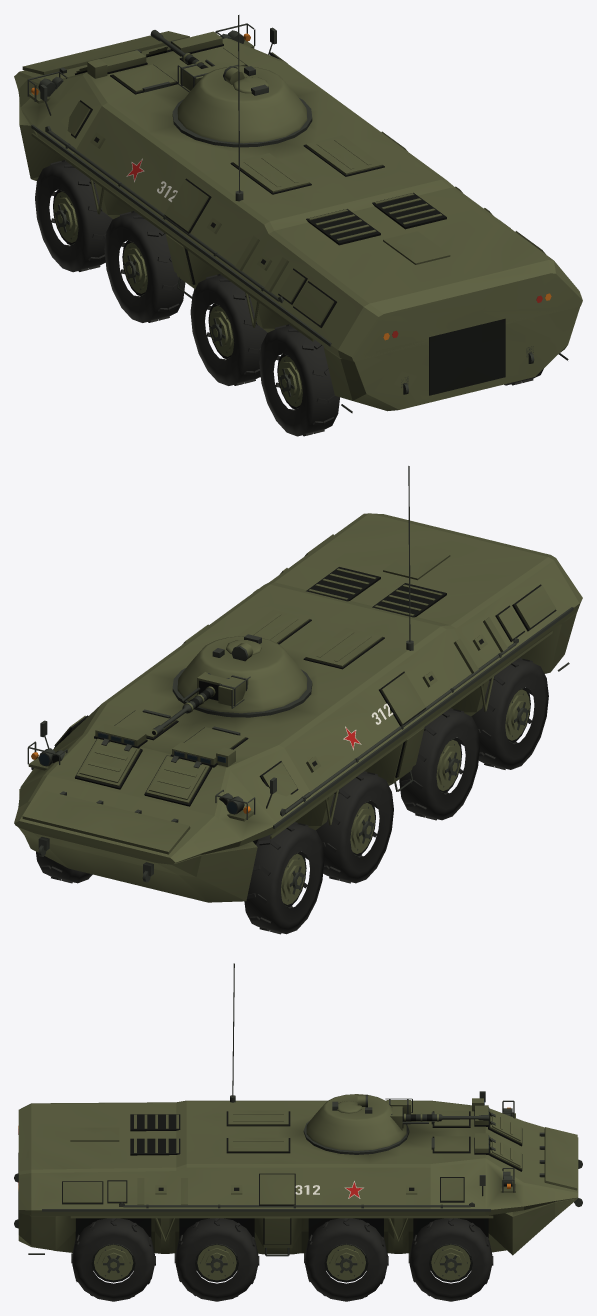
Rendered from btr70.glb.
The picture shows the model from 3 angles, top to bottom: view 1: azimuth 30°, elevation 25°; view 2: azimuth 150°, elevation 25°; view 3: azimuth 270°, elevation 25°; orthographic projection. The views are drawn at different scales.
Visible parts, largest first — view 1: Hull_BTR70_Paint, LeftTrack_Motion_BTR70_Rubber, Hull_BTR70_Cavity, TurretYaw_BTR70_Paint, Hull_BTR70_DarkSteel, LeftTrack_Motion_BTR70_Paint, LeftTrack_Motion_BTR70_DarkSteel; view 2: Hull_BTR70_Paint, LeftTrack_Motion_BTR70_Rubber, Hull_BTR70_DarkSteel, TurretYaw_BTR70_Paint, Hull_BTR70_Cavity, LeftTrack_Motion_BTR70_Paint, LeftTrack_Motion_BTR70_DarkSteel, RightTrack_Motion_BTR70_Rubber, GunPitch_BTR70_Paint; view 3: Hull_BTR70_Paint, RightTrack_Motion_BTR70_Rubber, Hull_BTR70_Cavity, Hull_BTR70_DarkSteel, TurretYaw_BTR70_Paint, RightTrack_Motion_BTR70_Paint, RightTrack_Motion_BTR70_Cavity, RightTrack_Motion_BTR70_DarkSteel.
Part boxes in pixels (x1=…): Hull_BTR70_Paint: x1=14, y1=31, x2=582, y2=411; LeftTrack_Motion_BTR70_Rubber: x1=35, y1=160, x2=339, y2=436; Hull_BTR70_Cavity: x1=71, y1=43, x2=505, y2=395; TurretYaw_BTR70_Paint: x1=177, y1=63, x2=307, y2=143; Hull_BTR70_DarkSteel: x1=27, y1=15, x2=568, y2=413; LeftTrack_Motion_BTR70_Paint: x1=53, y1=191, x2=302, y2=407; LeftTrack_Motion_BTR70_DarkSteel: x1=55, y1=190, x2=301, y2=408; Hull_BTR70_Paint: x1=14, y1=513, x2=582, y2=902; LeftTrack_Motion_BTR70_Rubber: x1=244, y1=658, x2=548, y2=934; Hull_BTR70_DarkSteel: x1=27, y1=466, x2=573, y2=882; TurretYaw_BTR70_Paint: x1=177, y1=636, x2=307, y2=713; Hull_BTR70_Cavity: x1=52, y1=567, x2=556, y2=844; LeftTrack_Motion_BTR70_Paint: x1=281, y1=689, x2=529, y2=904; LeftTrack_Motion_BTR70_DarkSteel: x1=282, y1=688, x2=528, y2=906; RightTrack_Motion_BTR70_Rubber: x1=36, y1=851, x2=92, y2=883; GunPitch_BTR70_Paint: x1=218, y1=676, x2=248, y2=706; Hull_BTR70_Paint: x1=18, y1=1098, x2=578, y2=1255; RightTrack_Motion_BTR70_Rubber: x1=71, y1=1218, x2=493, y2=1301; Hull_BTR70_Cavity: x1=18, y1=1110, x2=522, y2=1244; Hull_BTR70_DarkSteel: x1=14, y1=963, x2=582, y2=1256; TurretYaw_BTR70_Paint: x1=306, y1=1094, x2=406, y2=1150; RightTrack_Motion_BTR70_Paint: x1=94, y1=1244, x2=470, y2=1280; RightTrack_Motion_BTR70_Cavity: x1=91, y1=1244, x2=472, y2=1282; RightTrack_Motion_BTR70_DarkSteel: x1=92, y1=1243, x2=471, y2=1276.
Size of the model in its own units: 2.8 by 3.87 by 7.54.
Materials: 8 (1 with a texture image).
